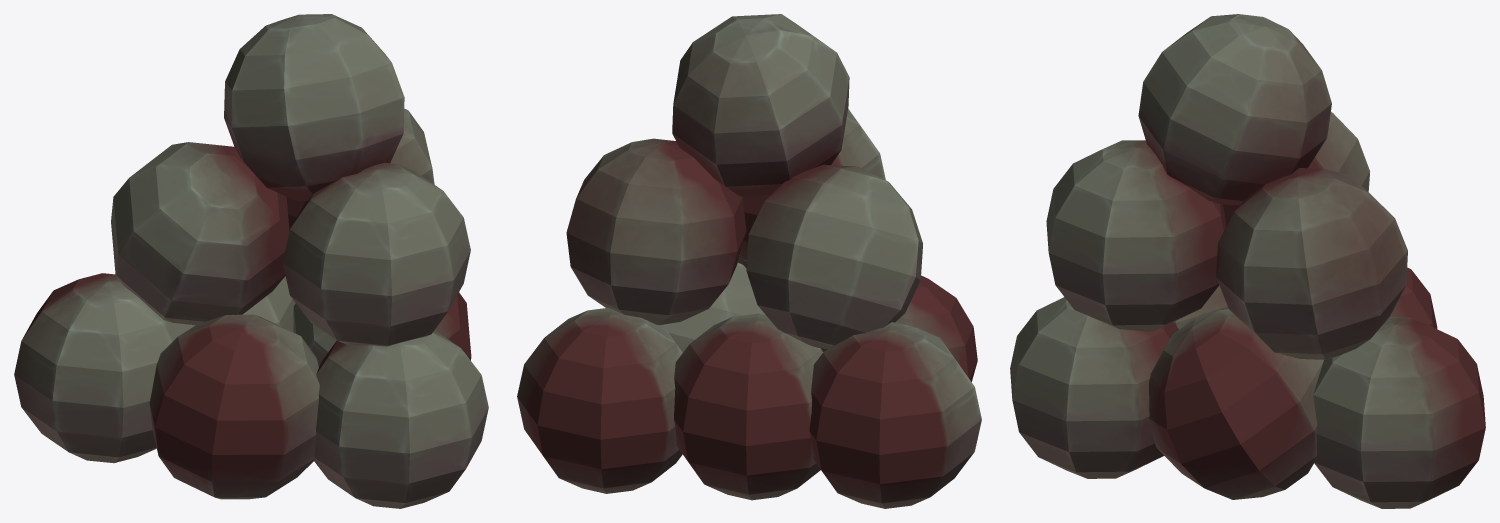
The model's file is cannonBalls.glb.
3 views of the same model, side by side, from view 1: azimuth 30°, elevation 25°; view 2: azimuth 150°, elevation 25°; view 3: azimuth 270°, elevation 25° (orthographic). The views are drawn at different scales.
Visible parts, largest first — view 1: pSphere3, pSphere1_lambert1_0.001, pSphere4, pSphere2, pSphere3_lambert1_0.003, pSphere3_lambert1_0.004, pSphere2_lambert1_0.001, pSphere1, pSphere3_lambert1_0.001; view 2: pSphere1, pSphere2, pSphere3_lambert1_0.004, pSphere4, pSphere3_lambert1_0.002, pSphere3_lambert1_0.001, pSphere1_lambert1_0.001, pSphere2_lambert1_0.001, pSphere3; view 3: pSphere1, pSphere4, pSphere3_lambert1_0.002, pSphere3, pSphere2_lambert1_0.001, pSphere3_lambert1_0.003, pSphere2, pSphere3_lambert1_0.001, pSphere1_lambert1_0.001.
Part boxes in pixels (left/top/right/bottom): pSphere3: left=283, top=162, right=470, bottom=346; pSphere1_lambert1_0.001: left=149, top=314, right=319, bottom=499; pSphere4: left=224, top=14, right=404, bottom=201; pSphere2: left=111, top=142, right=289, bottom=325; pSphere3_lambert1_0.003: left=314, top=330, right=488, bottom=508; pSphere3_lambert1_0.004: left=14, top=273, right=192, bottom=463; pSphere2_lambert1_0.001: left=293, top=292, right=471, bottom=366; pSphere1: left=286, top=108, right=434, bottom=229; pSphere3_lambert1_0.001: left=192, top=279, right=295, bottom=332; pSphere1: left=566, top=138, right=746, bottom=325; pSphere2: left=746, top=164, right=922, bottom=348; pSphere3_lambert1_0.004: left=809, top=322, right=981, bottom=508; pSphere4: left=672, top=14, right=849, bottom=196; pSphere3_lambert1_0.002: left=517, top=308, right=682, bottom=493; pSphere3_lambert1_0.001: left=674, top=313, right=823, bottom=500; pSphere1_lambert1_0.001: left=820, top=275, right=977, bottom=381; pSphere2_lambert1_0.001: left=663, top=262, right=765, bottom=352; pSphere3: left=739, top=108, right=885, bottom=261; pSphere1: left=1216, top=168, right=1407, bottom=359; pSphere4: left=1138, top=14, right=1331, bottom=205; pSphere3_lambert1_0.002: left=1313, top=317, right=1485, bottom=508; pSphere3: left=1046, top=140, right=1226, bottom=331; pSphere2_lambert1_0.001: left=1149, top=309, right=1323, bottom=499; pSphere3_lambert1_0.003: left=1010, top=297, right=1178, bottom=478; pSphere2: left=1222, top=112, right=1370, bottom=226; pSphere3_lambert1_0.001: left=1389, top=267, right=1437, bottom=328; pSphere1_lambert1_0.001: left=1173, top=285, right=1228, bottom=329.
Size of the model in its own units: 3.74 by 3.9 by 3.81.
Materials: 1 (1 with a texture image).
